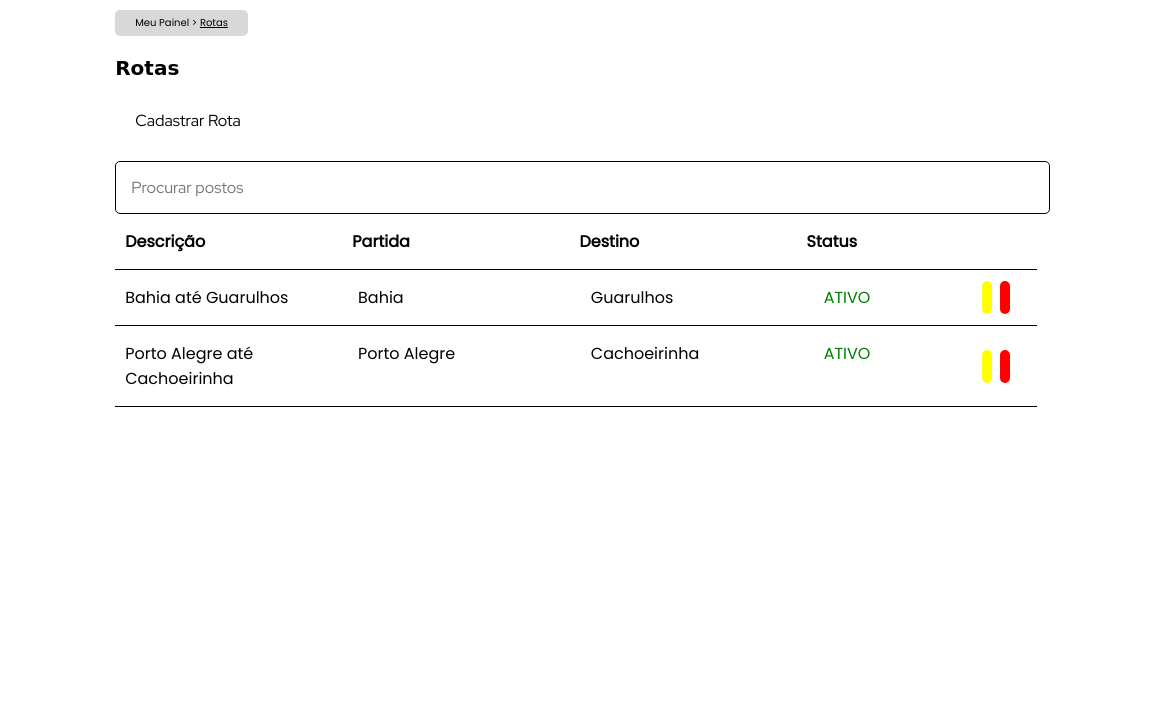
Test: 'Rotas' Page › should open EditRouteModal when edit button is clicked
The width and height of the screenshot is (1152, 720).
Click the button titled "Editar Posto" in the row of "Bahia até Guarulhos" at (987, 298), box [982,285,992,310]
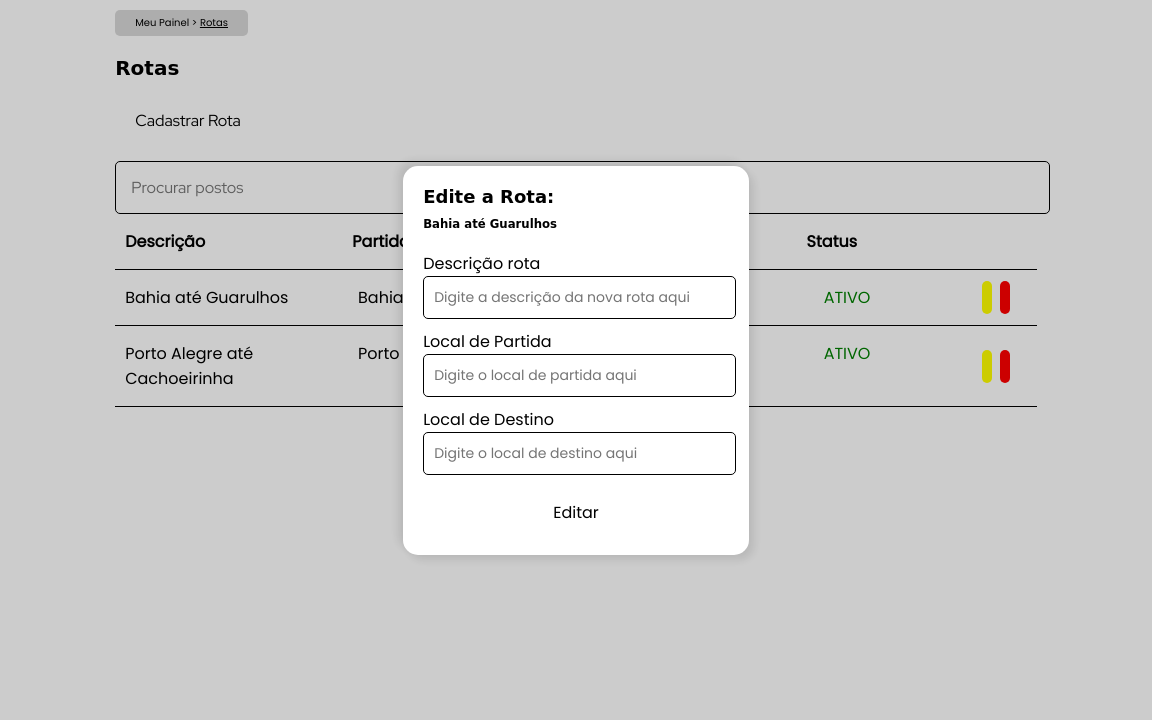
Expected: the heading "Edite a Rota:" is shown, [423,186,554,206]
